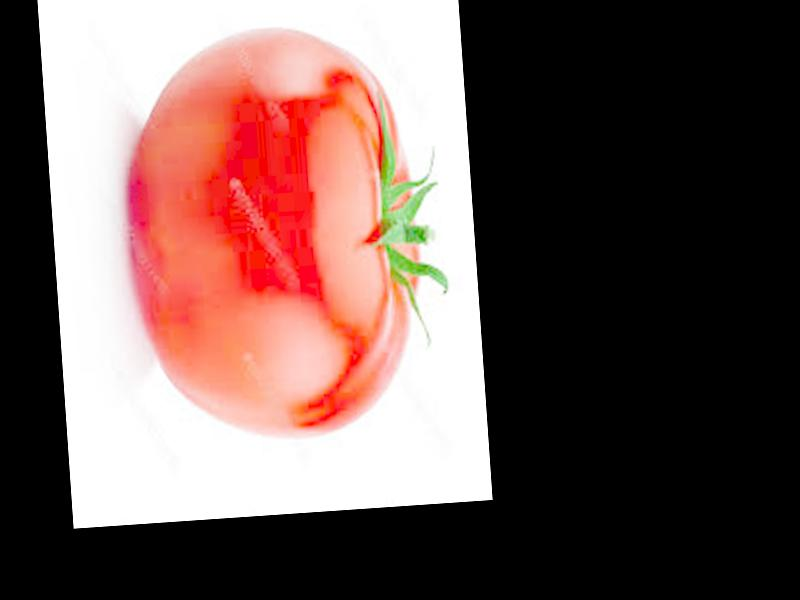Tomato: (124, 19, 430, 447)
